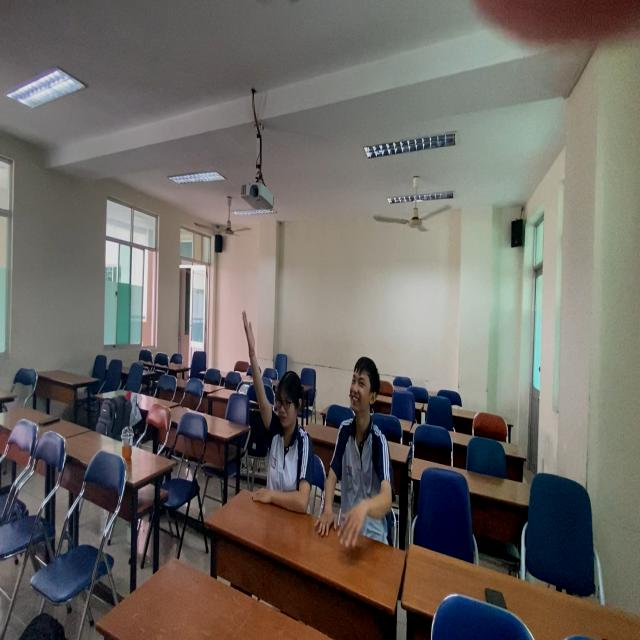raise_hand: (238, 293, 329, 542)
